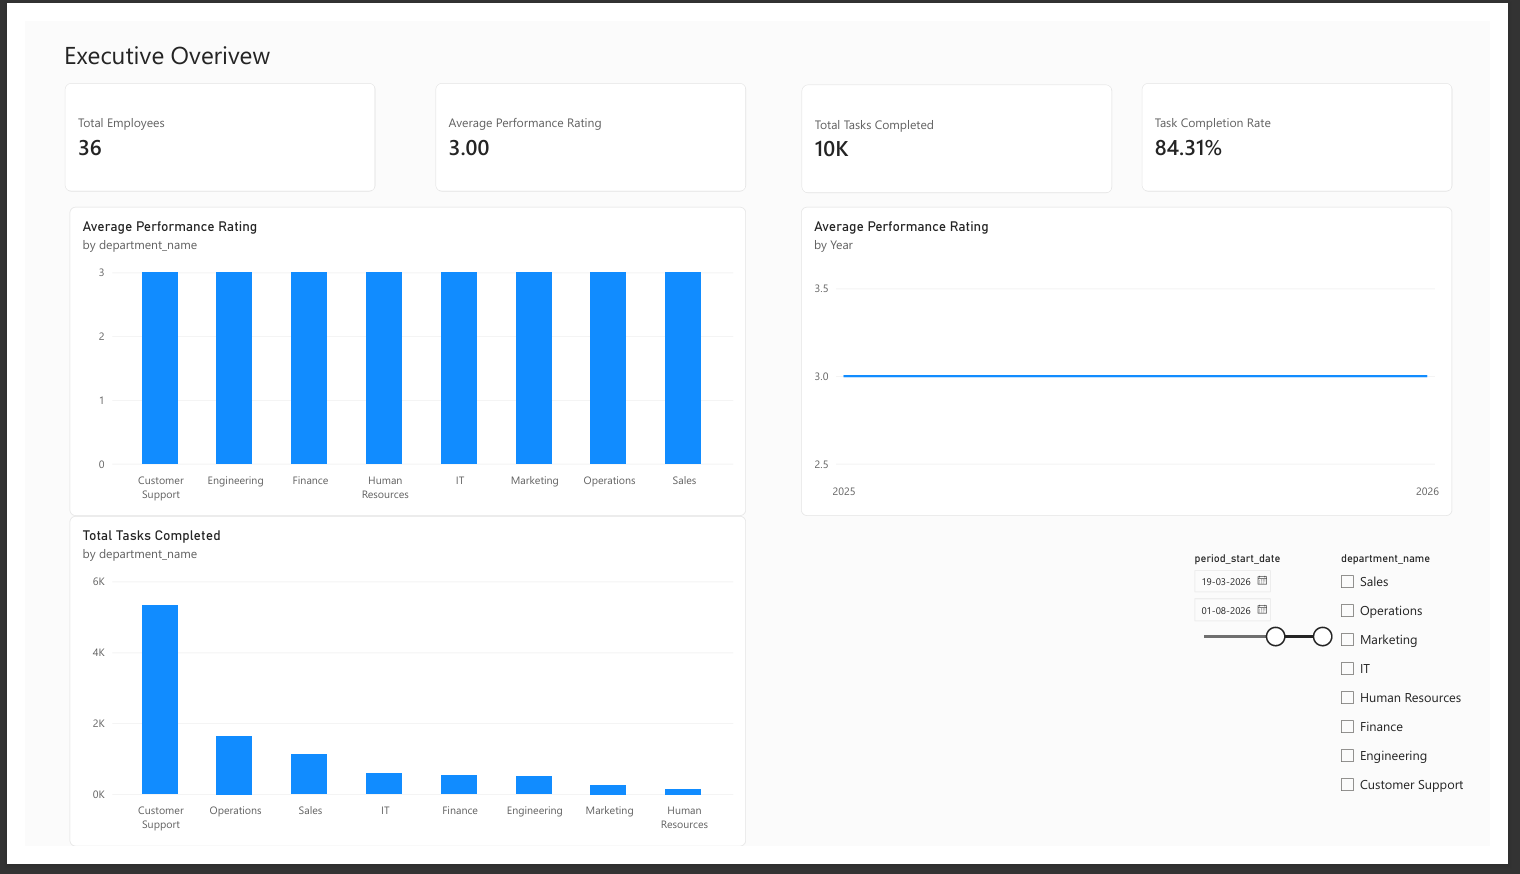

The dashboard page shown, as its layout file describes it:
{"tool":"powerbi","page":{"name":"Executive Overview","canvas":[1920,1080],"ordinal":0},"visuals":[{"type":"cardVisual","fields":{"Data":["Measures (3).Total Employees"]},"box":[52.3,80.7,407.5,142],"z":0},{"type":"cardVisual","fields":{"Data":["Measures (3).Average Performance Rating"]},"box":[538,80.7,407.5,142],"z":1000},{"type":"cardVisual","fields":{"Data":["Measures (3).Total Tasks Completed"]},"box":[1017.6,82.7,407.5,142],"z":2000},{"type":"cardVisual","fields":{"Data":["Measures (3).Task Completion Rate"]},"box":[1464.3,80.7,407.5,142],"z":3000},{"type":"clusteredColumnChart","fields":{"Category":["public departments.department_name"],"Y":["Measures (3).Average Performance Rating"]},"box":[57.6,242.9,887.1,405.5],"z":4000},{"type":"clusteredColumnChart","fields":{"Category":["public departments.department_name"],"Y":["Measures (3).Total Tasks Completed"]},"box":[57.6,648.4,887.1,432.2],"z":5000},{"type":"lineChart","fields":{"Category":["public time_periods.period_start_date.Variation.Date Hierarchy.Year","public time_periods.period_start_date.Variation.Date Hierarchy.Quarter","public time_periods.period_start_date.Variation.Date Hierarchy.Month","public time_periods.period_start_date.Variation.Date Hierarchy.Day"],"Y":["Measures (3).Average Performance Rating"]},"box":[1016.8,242.9,854.2,405.5],"z":6000},{"type":"slicer","fields":{"Values":["public departments.department_name"]},"box":[1716.6,695.7,203.8,337.6],"z":7000},{"type":"slicer","fields":{"Values":["public time_periods.period_start_date"]},"box":[1525.2,695.7,191.4,325.2],"z":8000},{"type":"textbox","box":[1716,648,150,432],"z":8001},{"type":"textbox","box":[1716,648,150,432],"z":8002},{"type":"textbox","box":[51.5,20.6,343.7,61.7],"z":8003}]}

Visuals, with their boxes in screenshot pixels (x1, y1, x2, y2), scaled from the page's 1920x1080 canvas onto the 1520x874 screenshot:
cardVisual - Measures (3).Total Employees: 41:65:364:180
cardVisual - Measures (3).Average Performance Rating: 426:65:749:180
cardVisual - Measures (3).Total Tasks Completed: 806:67:1128:182
cardVisual - Measures (3).Task Completion Rate: 1159:65:1482:180
clusteredColumnChart - public departments.department_name x Measures (3).Average Performance Rating: 46:197:748:525
clusteredColumnChart - public departments.department_name x Measures (3).Total Tasks Completed: 46:525:748:873
lineChart - public time_periods.period_start_date.Variation.Date Hierarchy.Year x public time_periods.period_start_date.Variation.Date Hierarchy.Quarter: 805:197:1481:525
slicer - public departments.department_name: 1359:563:1519:836
slicer - public time_periods.period_start_date: 1207:563:1359:826
textbox: 1358:524:1477:873
textbox: 1358:524:1477:873
textbox: 41:17:313:67
